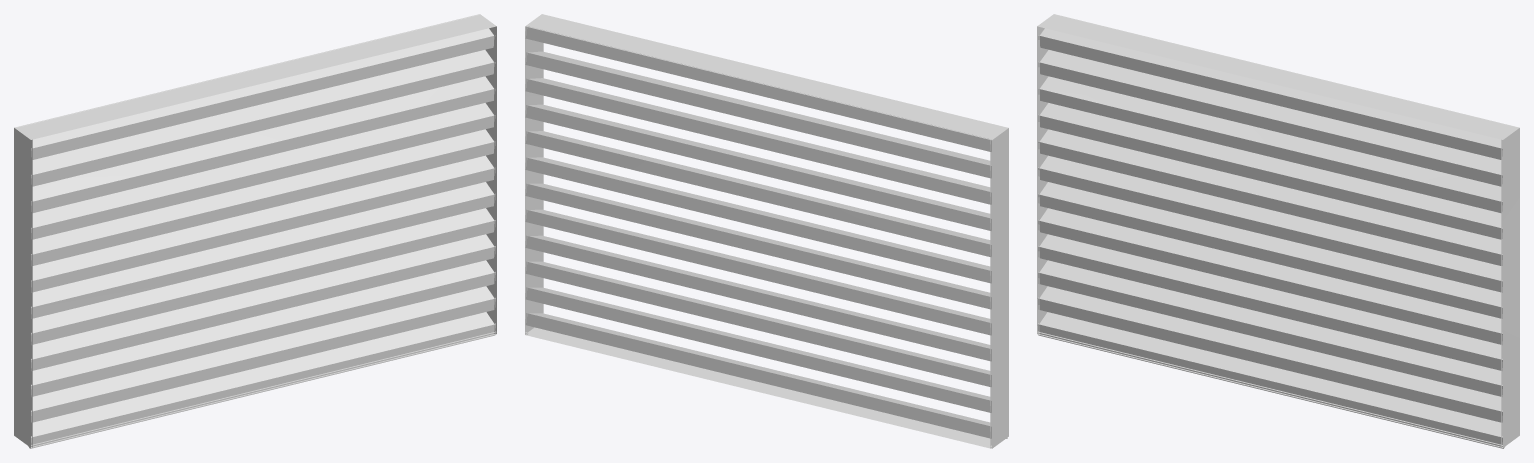
File: HeaterGrates.002.glb
The picture shows the model from 3 angles, left to right: view 1: azimuth 30°, elevation 25°; view 2: azimuth 150°, elevation 25°; view 3: azimuth 330°, elevation 25°; orthographic projection.
Parts seen in each view (by area): view 1: HeaterGrates.002; view 2: HeaterGrates.002; view 3: HeaterGrates.002.
Part boxes in pixels (x1=…): HeaterGrates.002: x1=14, y1=14, x2=496, y2=448; HeaterGrates.002: x1=525, y1=14, x2=1008, y2=448; HeaterGrates.002: x1=1037, y1=14, x2=1519, y2=448.
Size of what is drawn, in the model's own units: 0.3985 by 0.2533 by 0.0251.
Materials: 1 (1 with a texture image).
